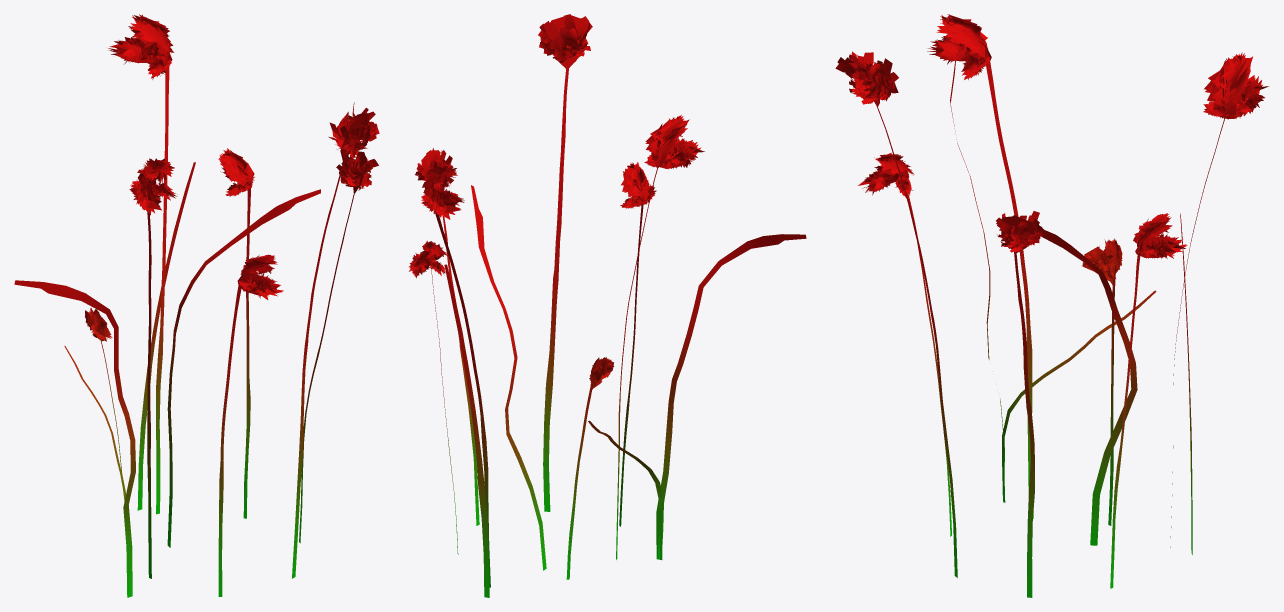
Rendered from Cotton Grass_LOD1_Var11_wlykecdia.fbx.
3 renders of one model, left to right at view 1: azimuth 30°, elevation 25°; view 2: azimuth 150°, elevation 25°; view 3: azimuth 270°, elevation 25°, orthographic. The views are drawn at different scales.
Visible parts, largest first — view 1: _nnsi_Var11_LOD1; view 2: _nnsi_Var11_LOD1; view 3: _nnsi_Var11_LOD1.
Part boxes in pixels (<box>): _nnsi_Var11_LOD1: <box>14,14,379,597</box>; _nnsi_Var11_LOD1: <box>409,14,806,597</box>; _nnsi_Var11_LOD1: <box>835,14,1268,597</box>.
Bounding box in the file's own units: 16.79 × 20.58 × 15.16.
